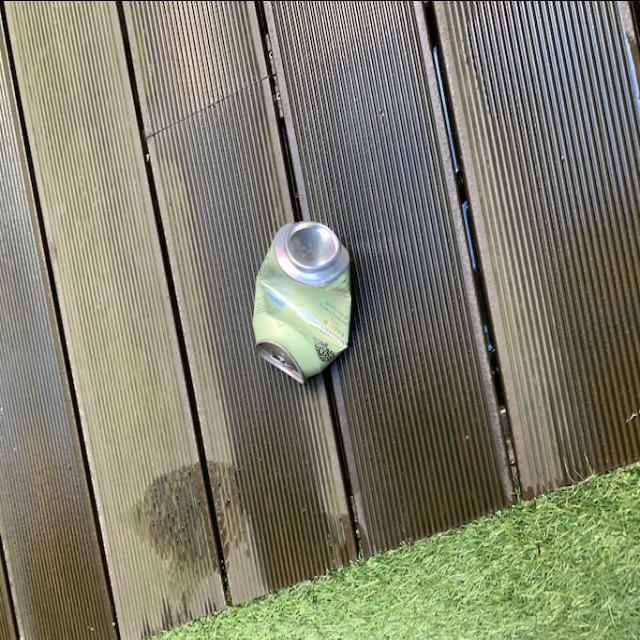Aluminum Can: (247, 215, 355, 377)
